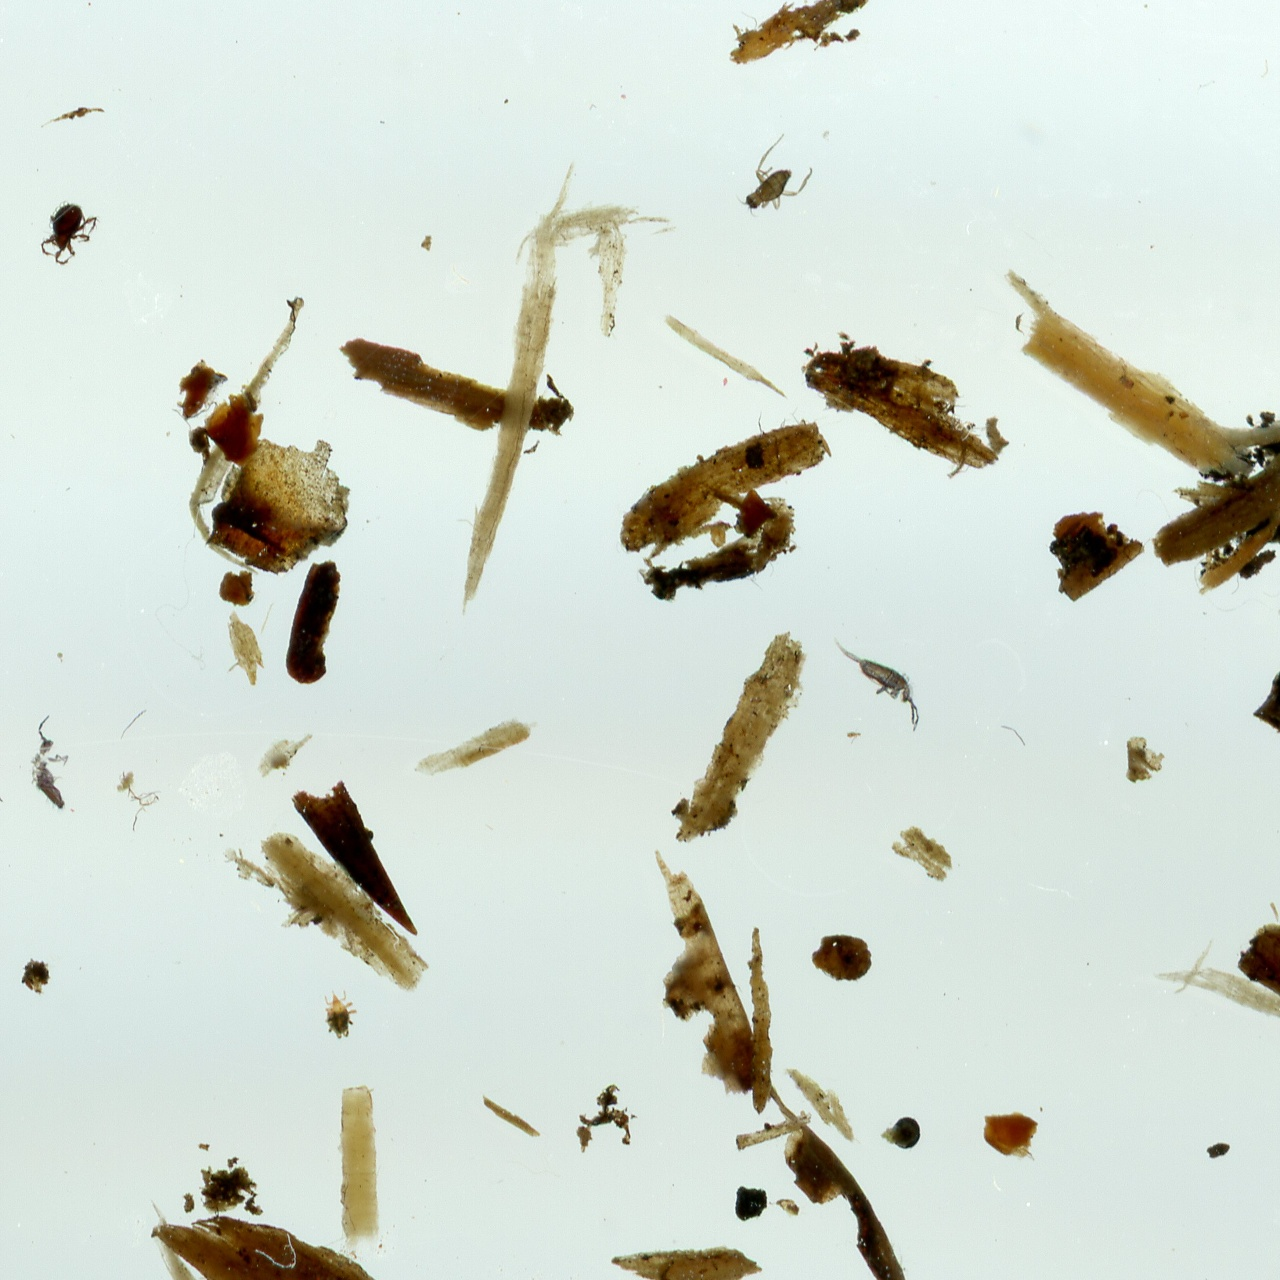arthropod: (721, 125, 830, 237), (830, 631, 922, 734), (23, 710, 76, 818), (35, 197, 105, 268), (321, 986, 361, 1042), (1261, 531, 1280, 633)
